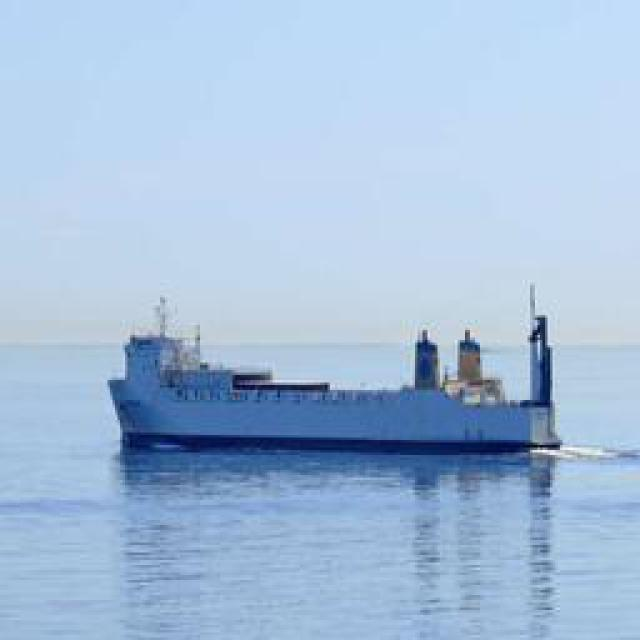Ship: (112, 297, 570, 455)
